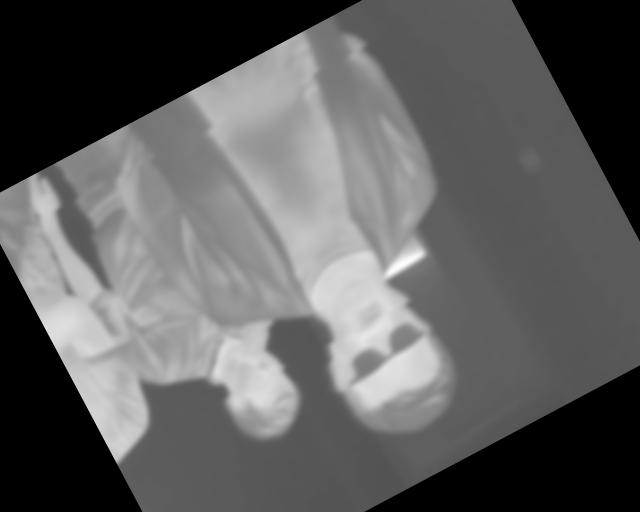face: (300, 268, 474, 457), (199, 326, 316, 454)
